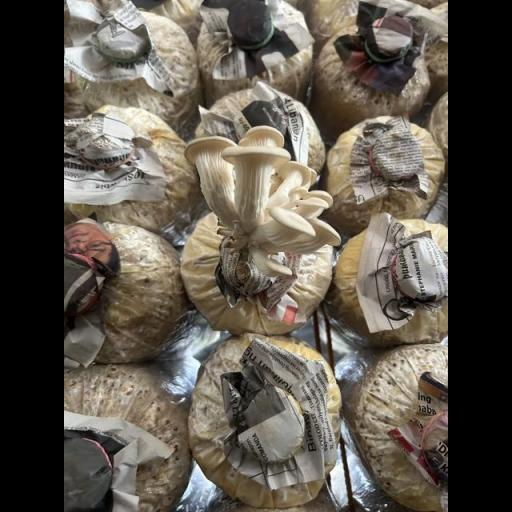White Oyster Mushroom: (167, 103, 356, 293)
